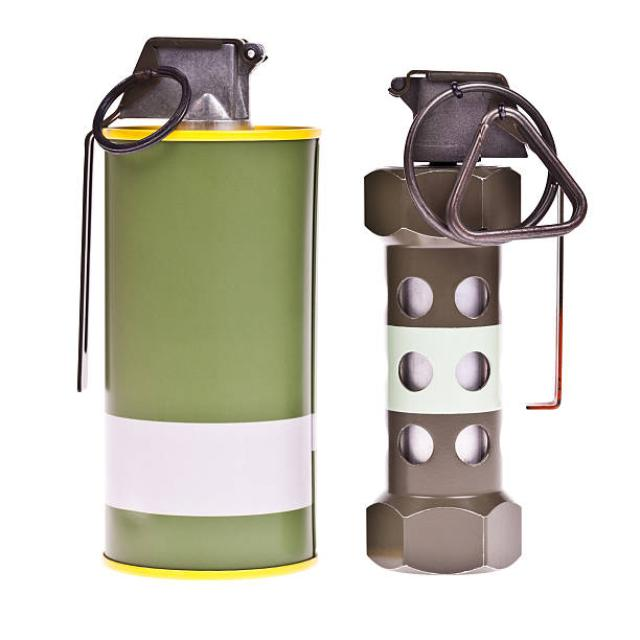grenade: (355, 63, 588, 586)
